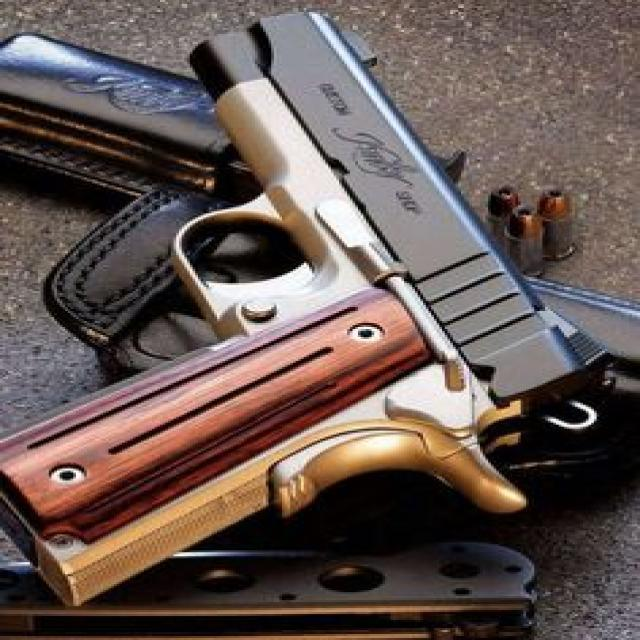semi automatic: (8, 2, 606, 609)
